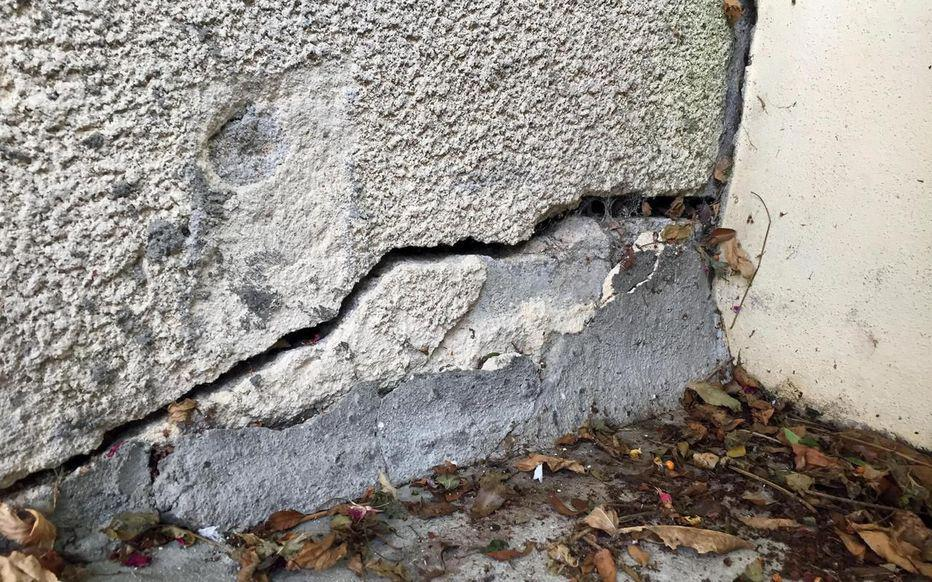crack: (0, 0, 758, 503)
